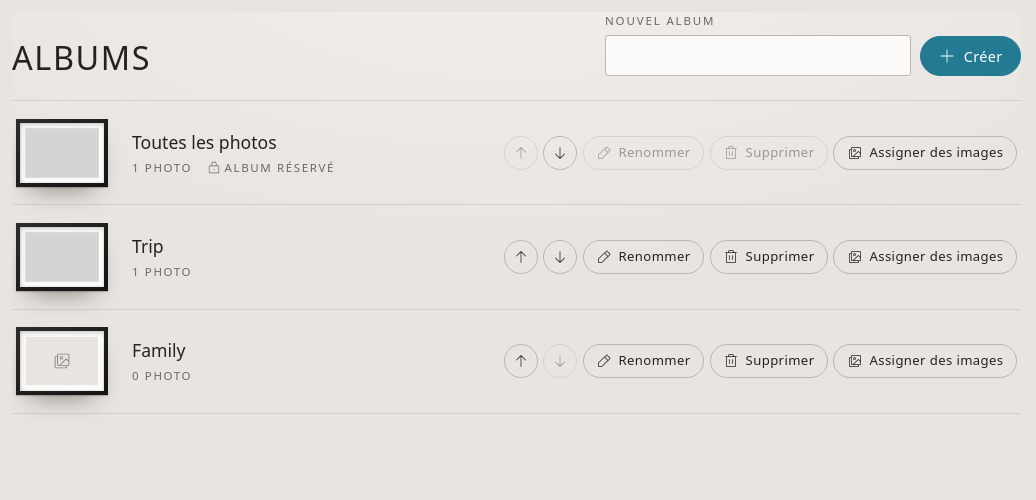
it: Albums › shows the server error and keeps the list and input on 4xx
Expected: the text "Trip" is shown, [132, 234, 164, 258]
Type "Summer" into the field labelled "Nouvel album" at (758, 55), box [605, 35, 911, 76]
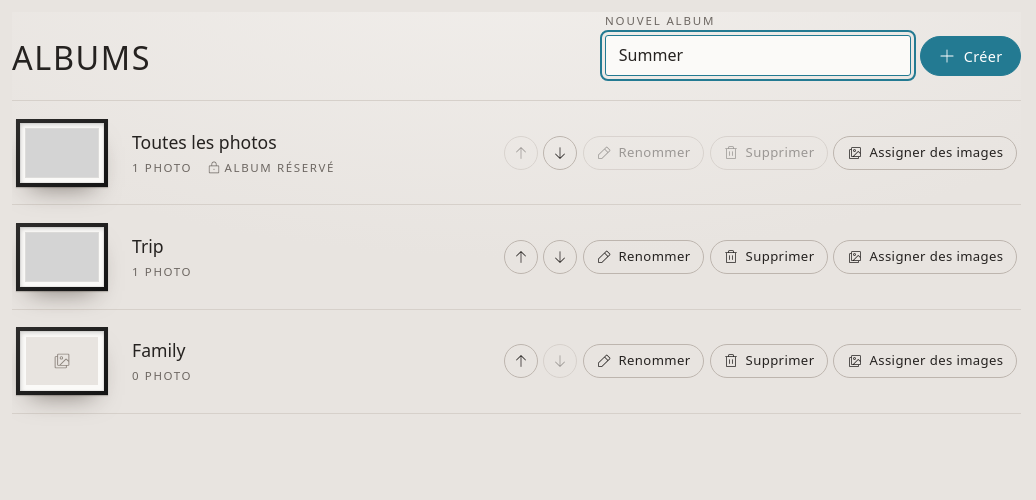
Click the button "Créer" at (971, 56), box [920, 36, 1021, 76]
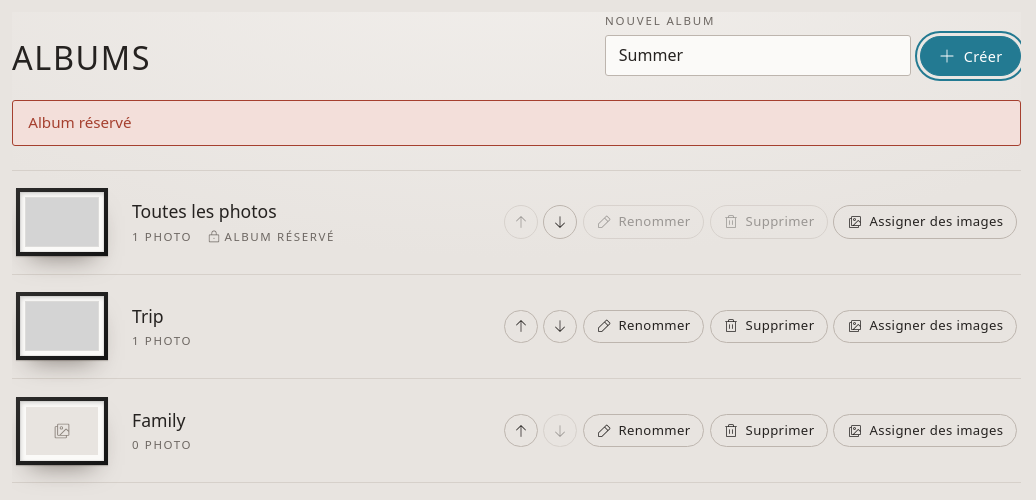
Expected: the text "Trip" is shown, [132, 304, 164, 328]
Result: the message reads "Album réservé" at [28, 112, 132, 132]
